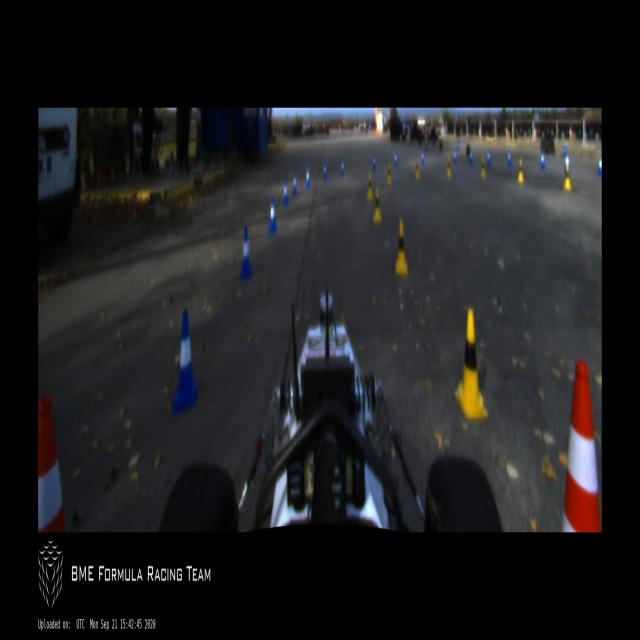blue_cone: (171, 310, 198, 416), (240, 227, 252, 281), (268, 196, 278, 233), (282, 178, 289, 206), (292, 171, 298, 195), (564, 152, 570, 175), (540, 152, 546, 168), (393, 147, 398, 165), (487, 147, 492, 165), (453, 147, 458, 165), (507, 149, 512, 167), (598, 157, 602, 178), (306, 168, 310, 188), (323, 162, 327, 181), (420, 150, 424, 166), (373, 152, 376, 171), (341, 157, 344, 175), (470, 151, 472, 163)
large_orange_cone: (562, 358, 601, 532), (38, 398, 66, 532)
yellow_cone: (455, 308, 488, 421), (394, 219, 408, 276), (373, 188, 382, 222), (563, 160, 572, 191), (366, 172, 373, 200), (517, 159, 524, 183), (386, 162, 392, 183), (446, 156, 451, 178), (481, 157, 486, 178), (415, 159, 420, 179)
